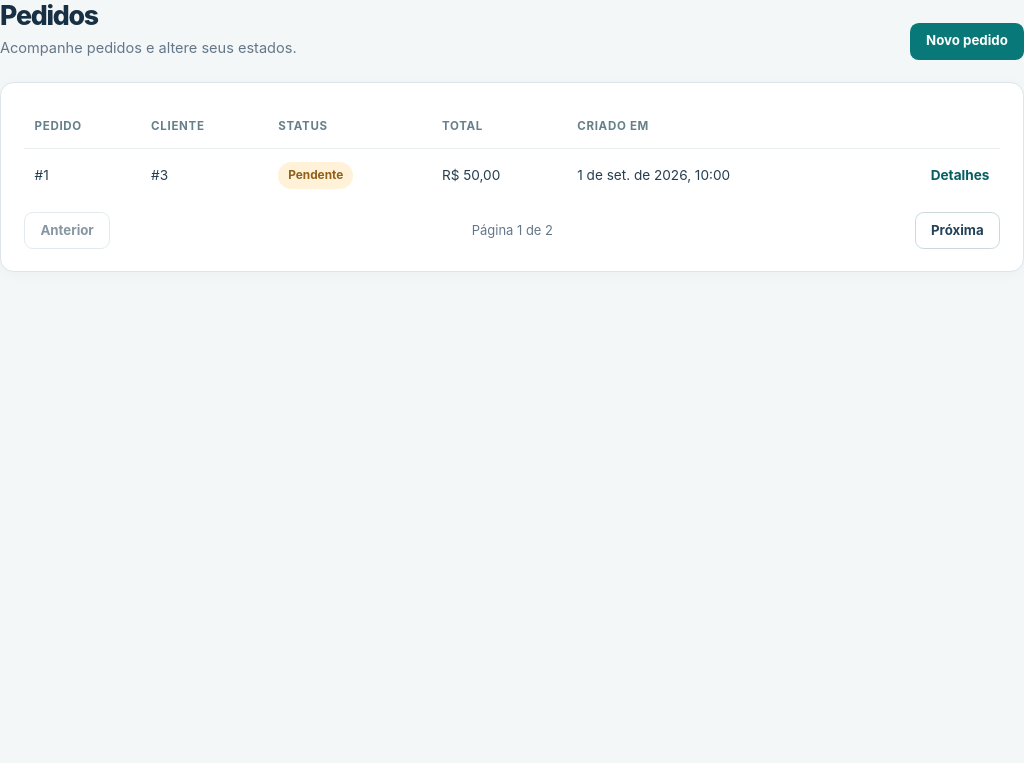
Test: order workflow › rejects duplicate products before posting
Check: the link "Detalhes" is shown, box [931,167,989,183]
Click the button "Novo pedido": (967,41) [910,23,1023,60]
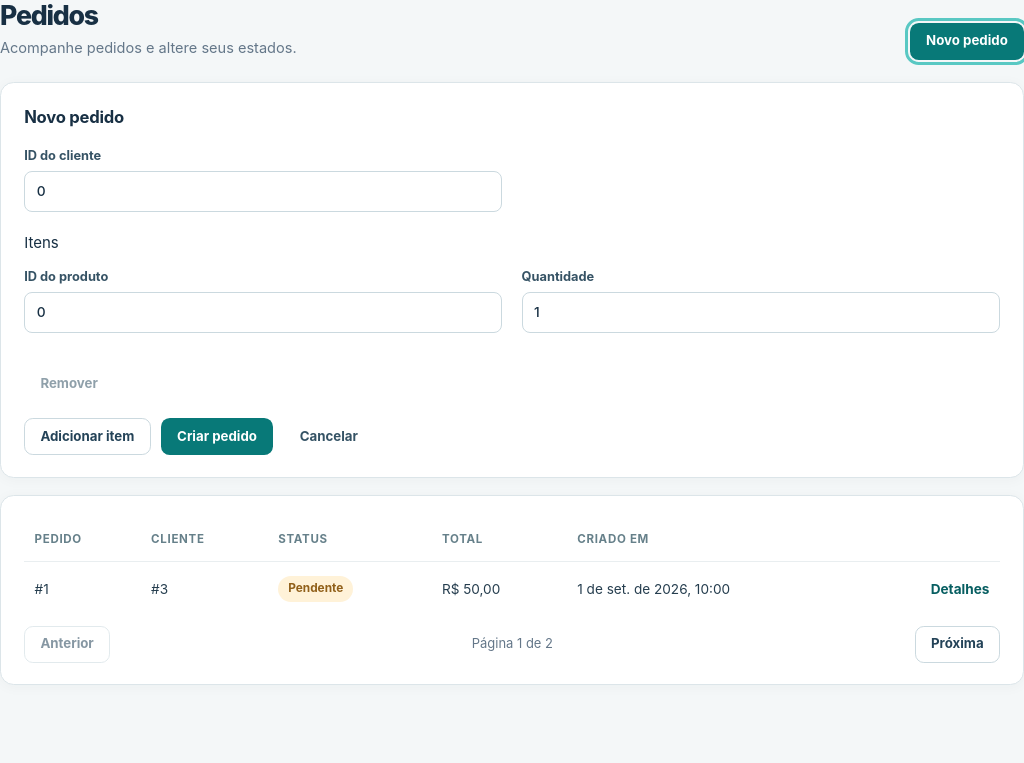
In the number field labelled "ID do cliente": (263,191) [24,170,502,212], type "3"
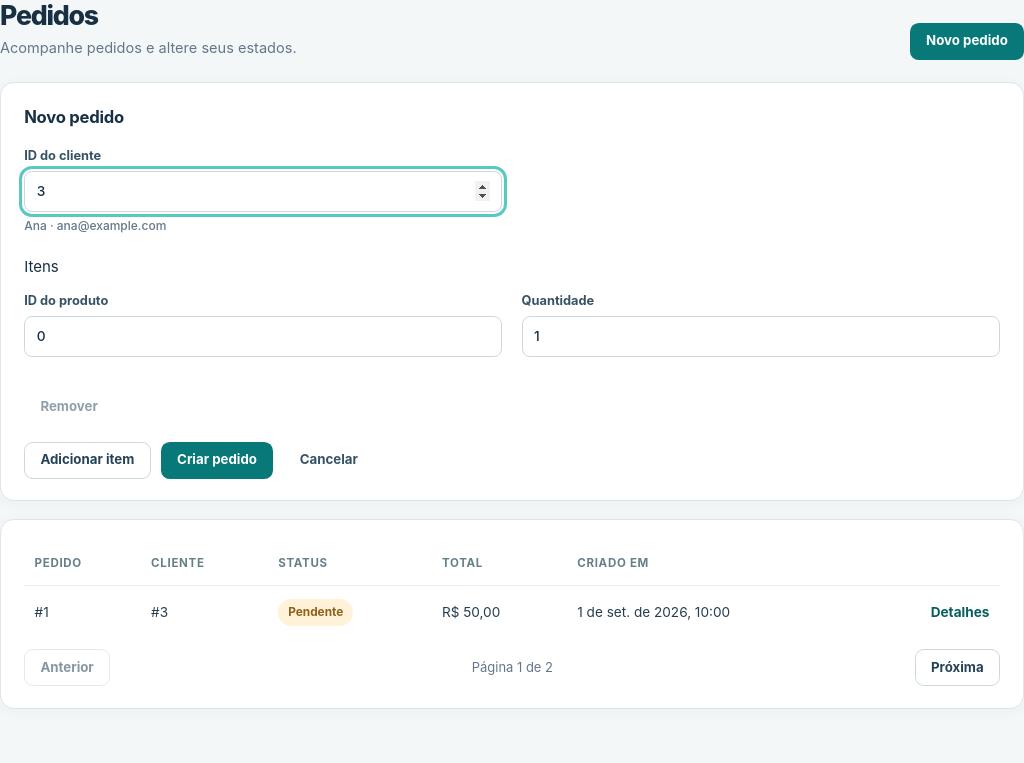
In the number field labelled "ID do produto": (263,336) [24,316,502,357], type "7"
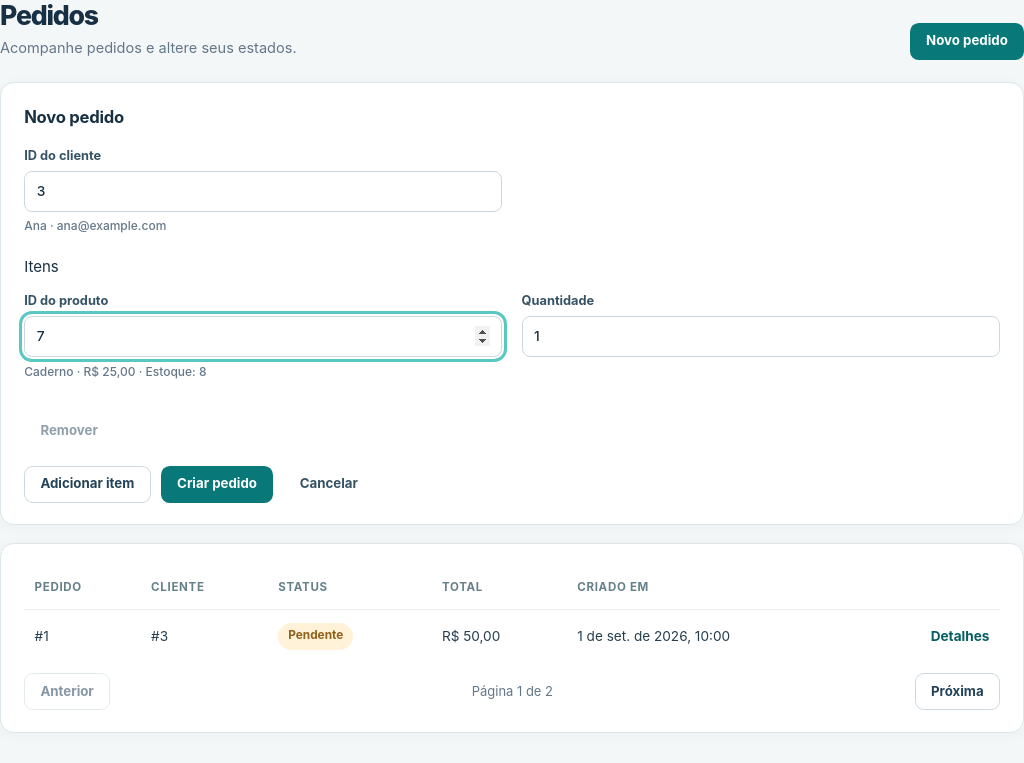
Click the button "Adicionar item": (87,484) [24,466,150,503]
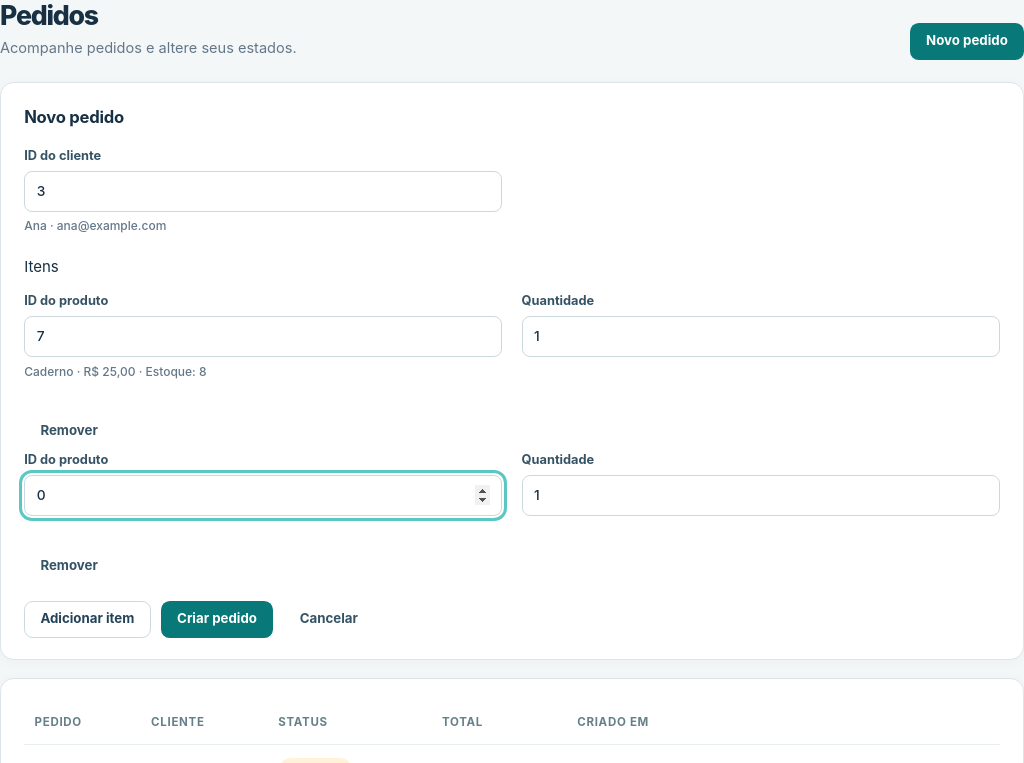
In the 2nd number field labelled "ID do produto": (263,495) [24,475,502,516], type "7"
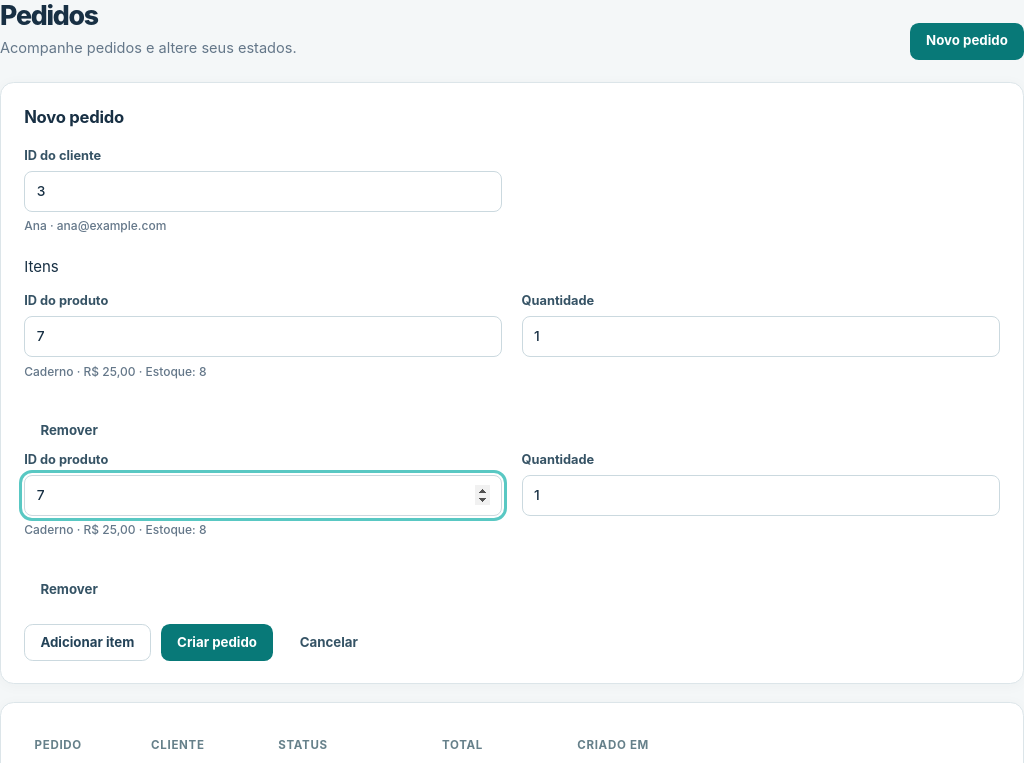
Click the button "Criar pedido": (217,643) [161,624,273,662]
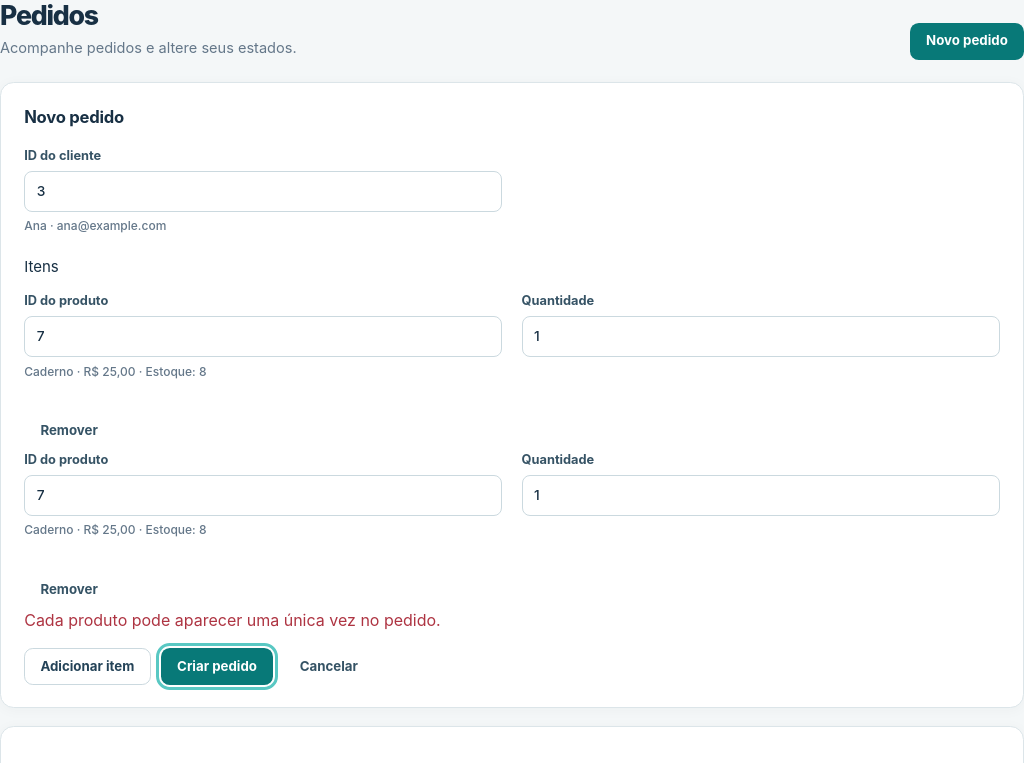
Check: the text "Cada produto pode aparecer uma única vez no pedido." is shown, box [24,610,441,630]
